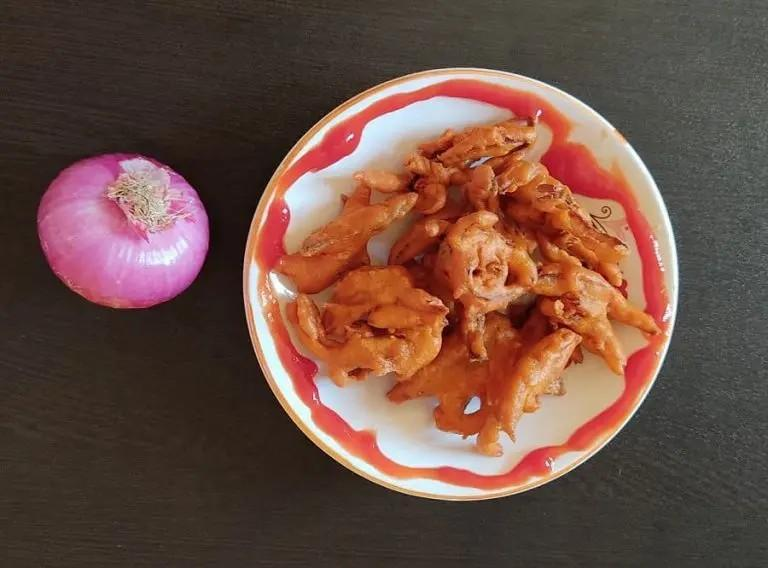OnionPakoda: (278, 108, 659, 449)
